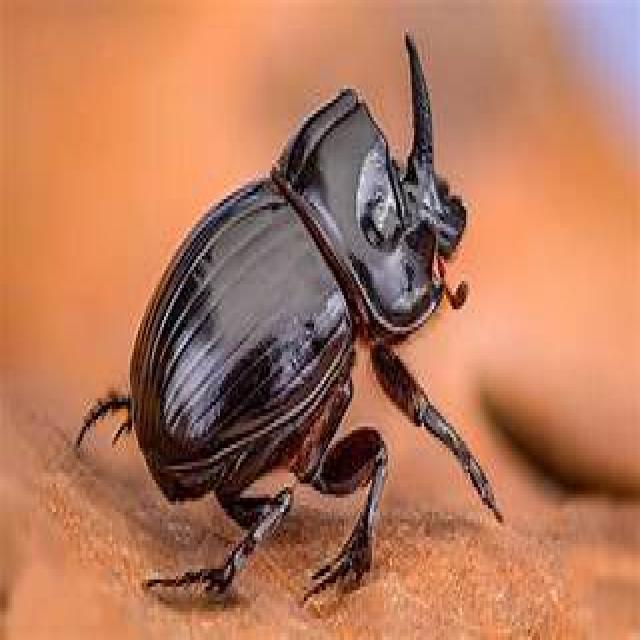Rhino-beetle: (90, 35, 489, 598)
